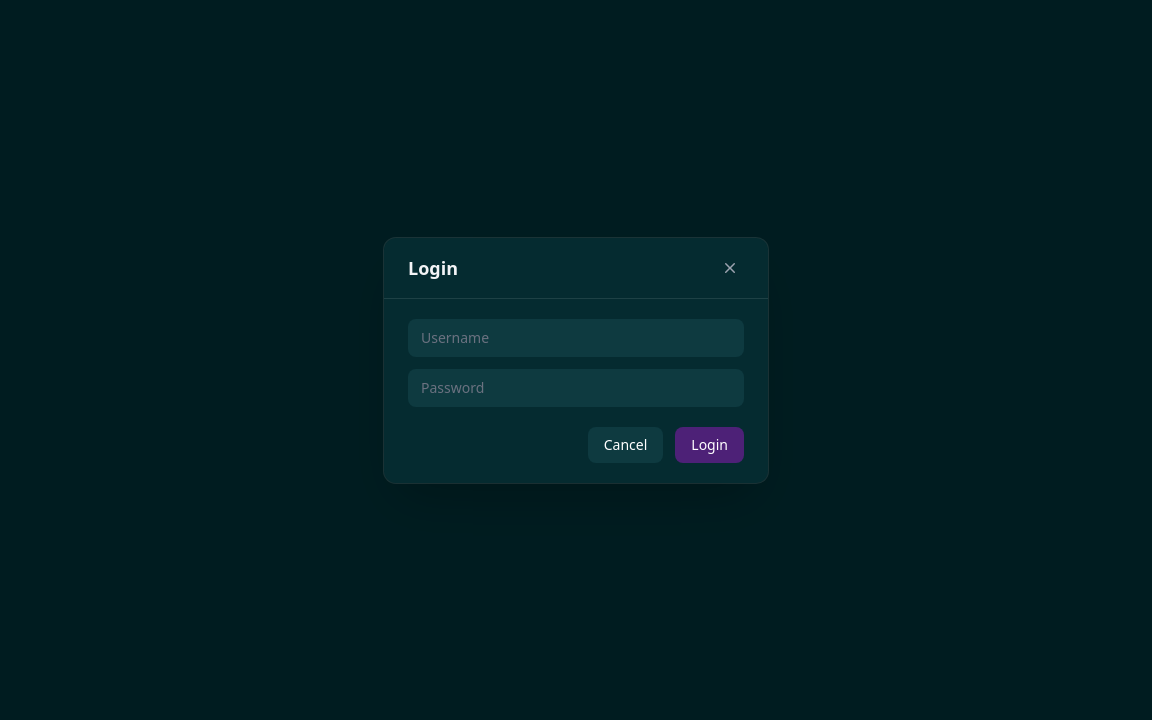
Test: LoginDialog › shows error on failed login
Type "user" into the field with placeholder "Username" at (576, 338), box [408,318,744,356]
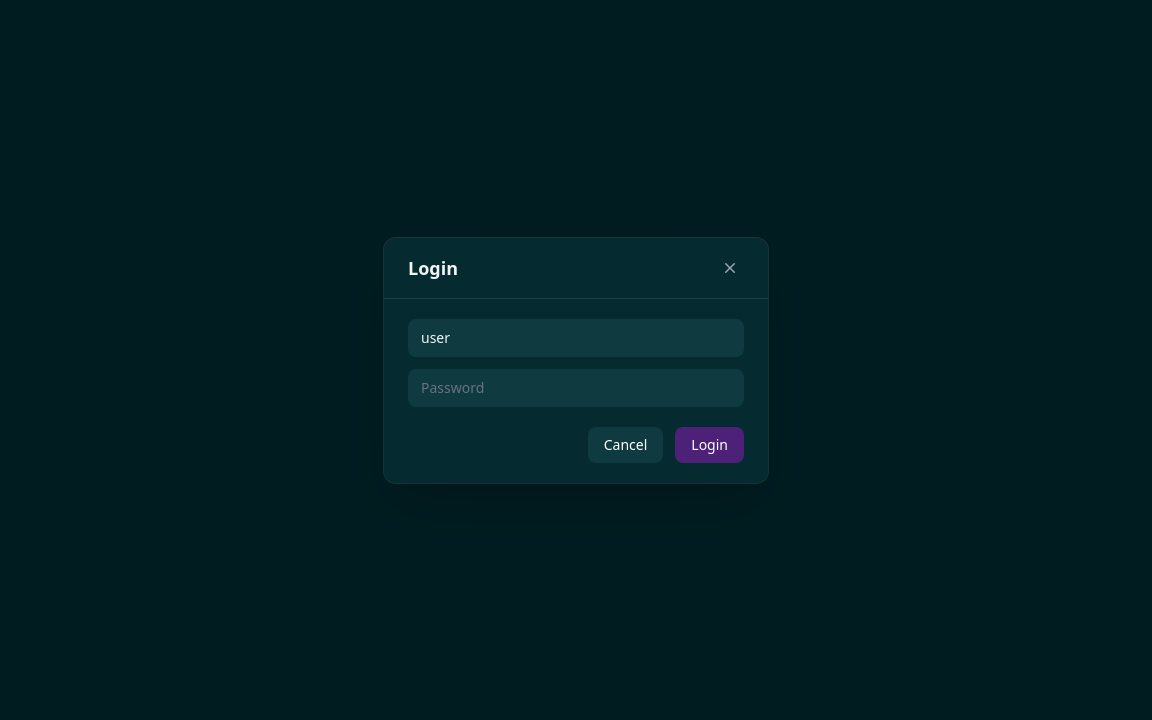
Type "wrong" into the password field with placeholder "Password" at (576, 388), box [408,368,744,406]
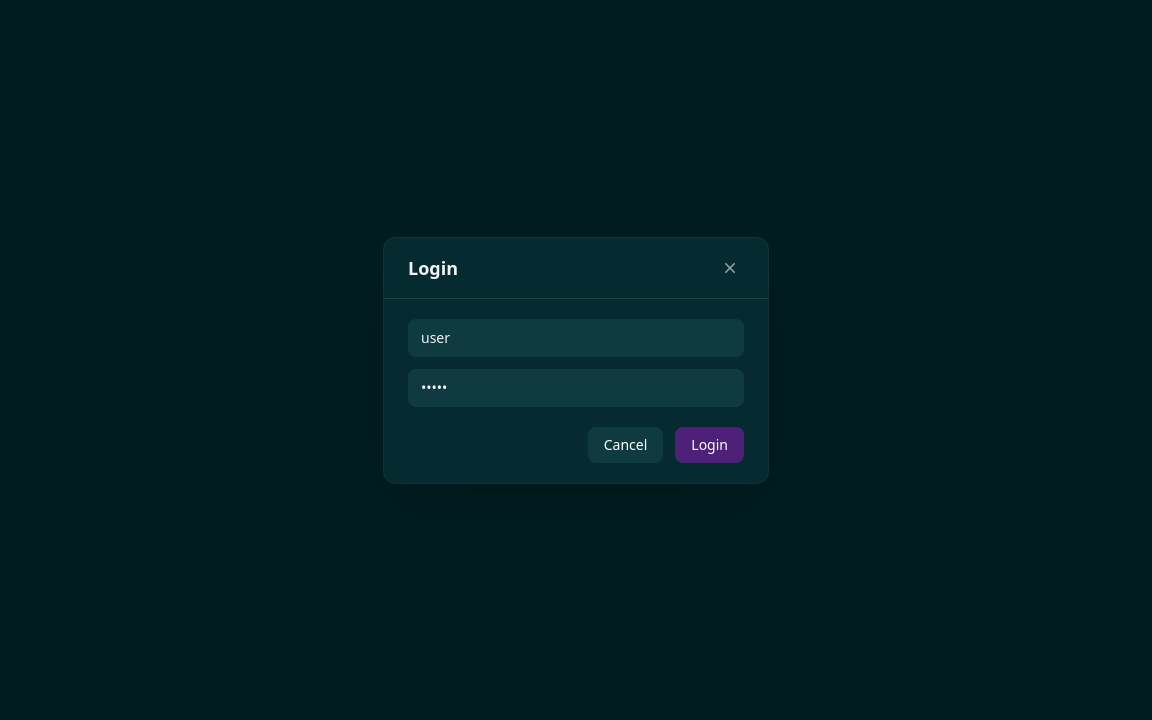
Click the button "Login" at (710, 444), box [675,426,744,462]
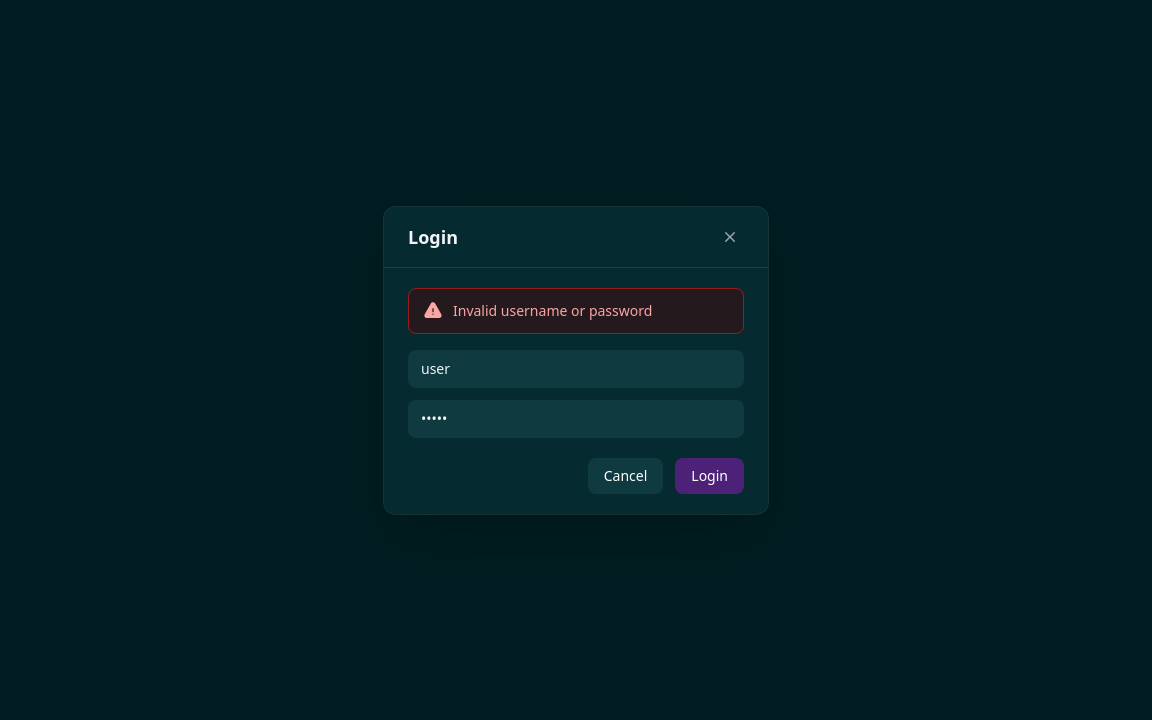
expect the text "Invalid username or password" is shown: met, box [453,300,652,320]
